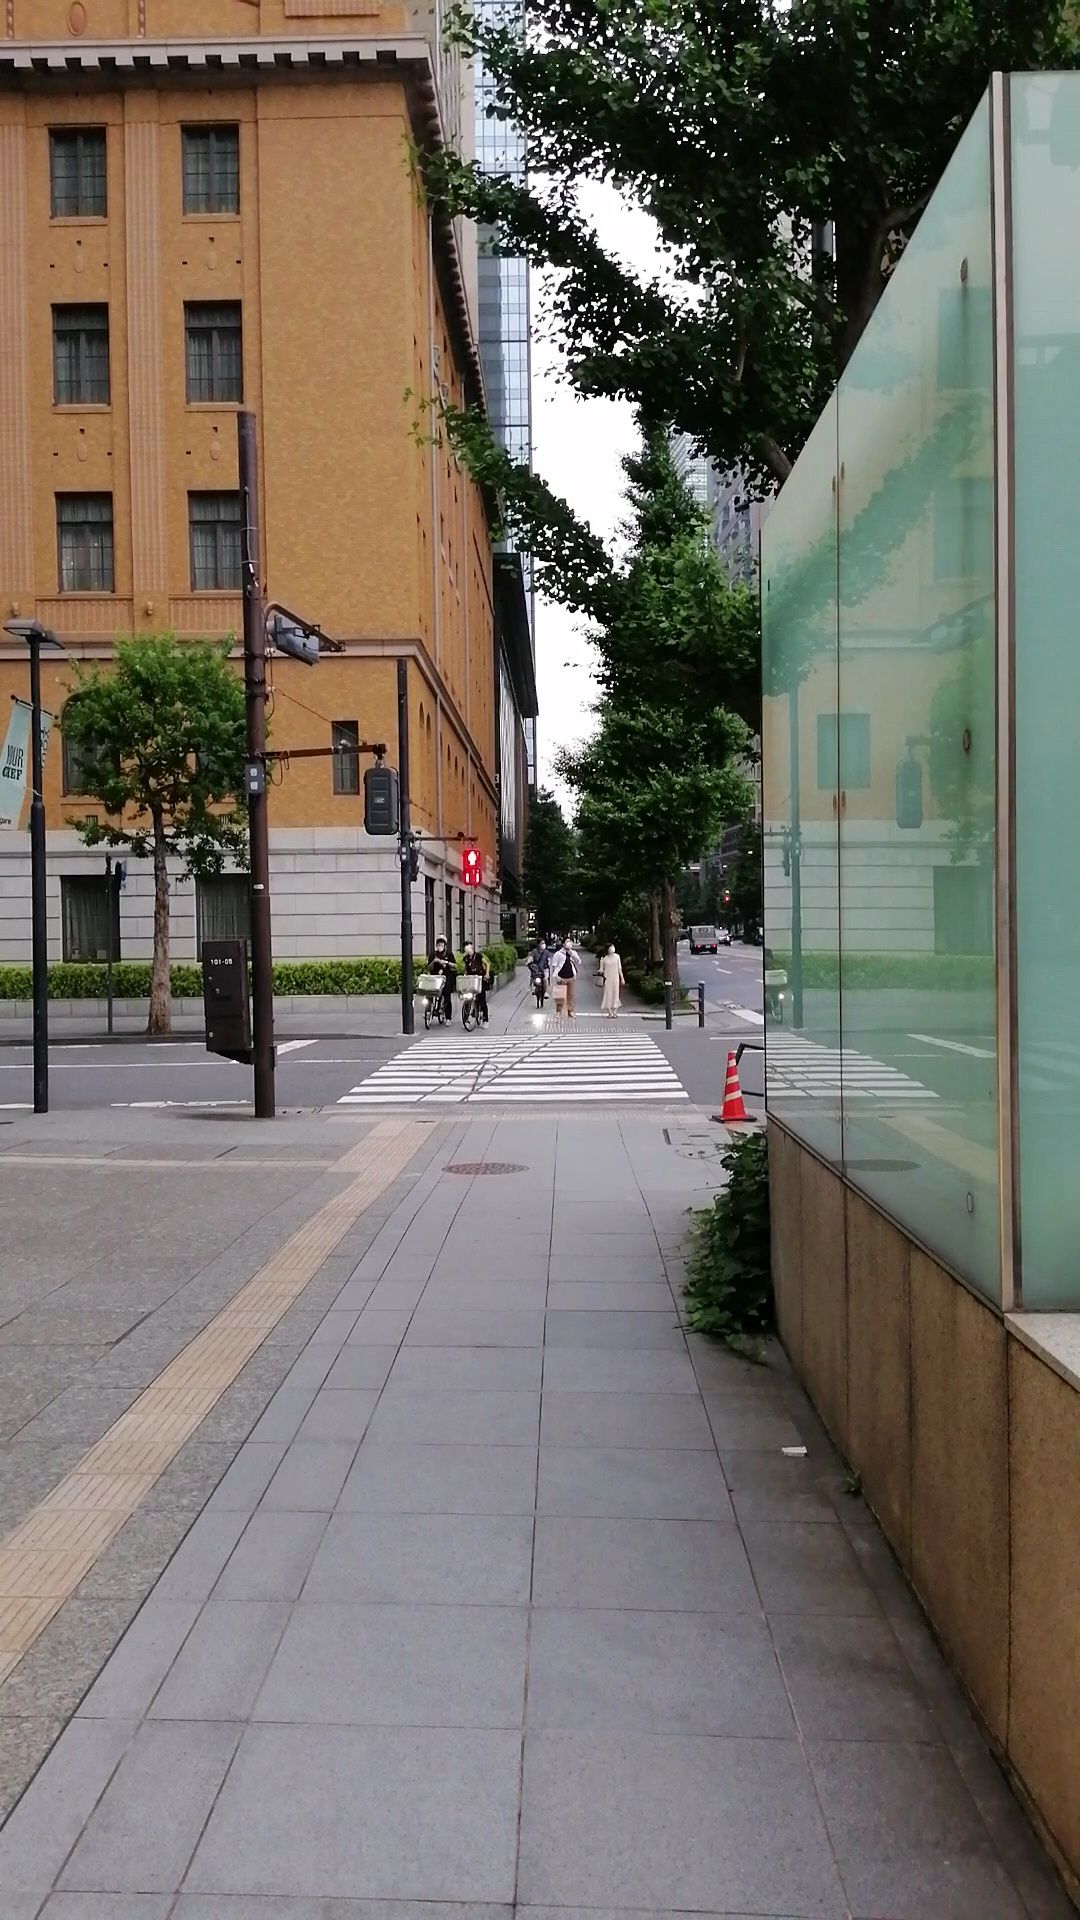red: (462, 847, 483, 886)
